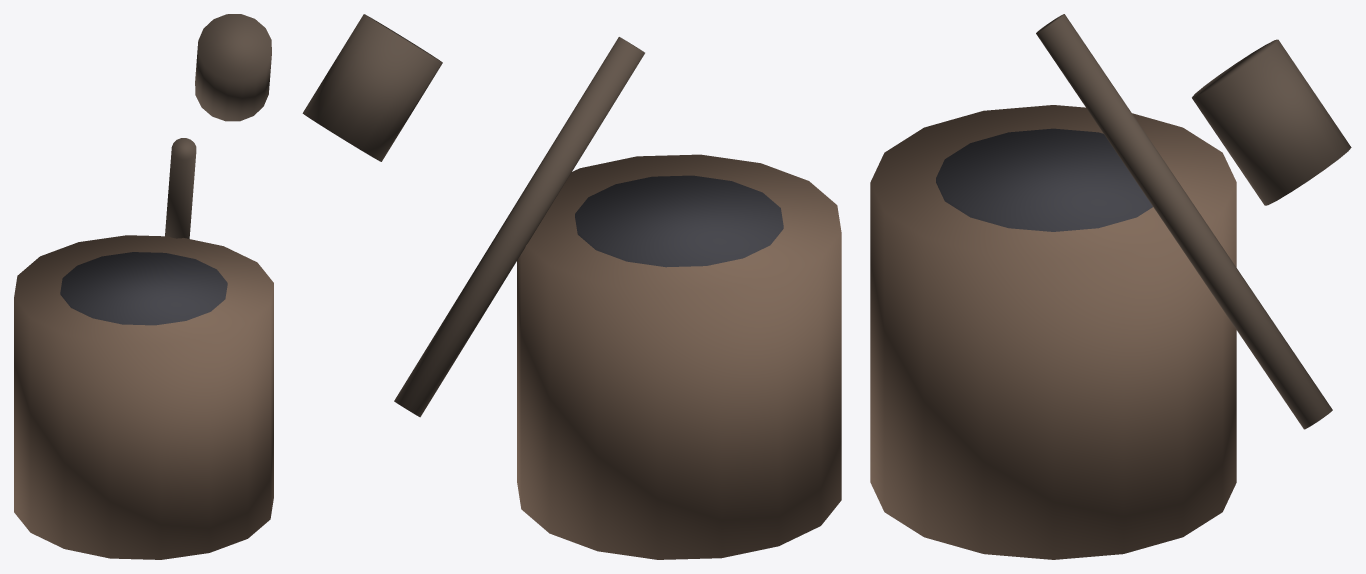
Rendered from prop_usu.glb.
The picture shows the model from 3 angles, left to right: view 1: azimuth 30°, elevation 25°; view 2: azimuth 150°, elevation 25°; view 3: azimuth 270°, elevation 25°; orthographic projection. The views are drawn at different scales.
Visible parts, largest first — view 1: usu; view 2: usu; view 3: usu.
Part boxes in pixels (bbox=[...]): usu: bbox=[14, 14, 273, 559]; usu: bbox=[302, 14, 841, 559]; usu: bbox=[870, 14, 1351, 559].
Bounding box in the file's own units: 1.2 × 1.39 × 1.1.
